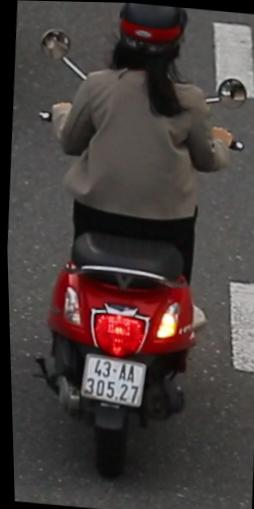LP: (76, 351, 148, 411)
helmet: (107, 2, 196, 84)
